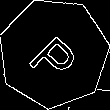P_NE: (23, 23, 84, 84)
